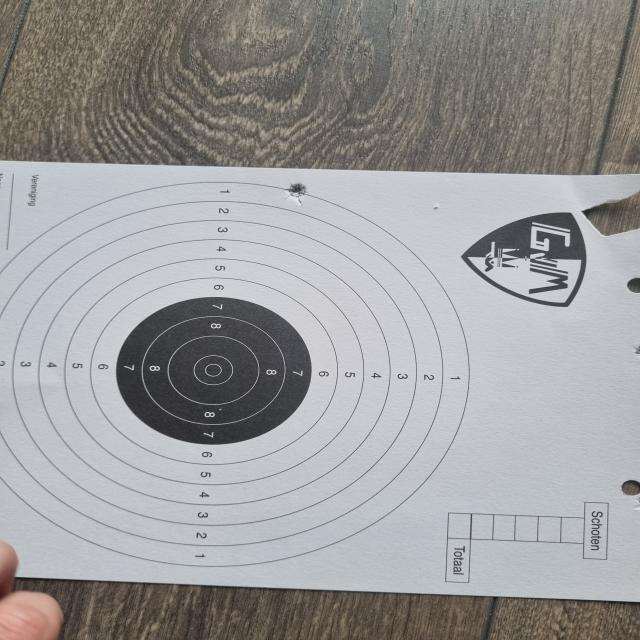1: (281, 180, 309, 204)
Black Contour: (115, 296, 313, 447)
Target: (0, 180, 471, 567)
